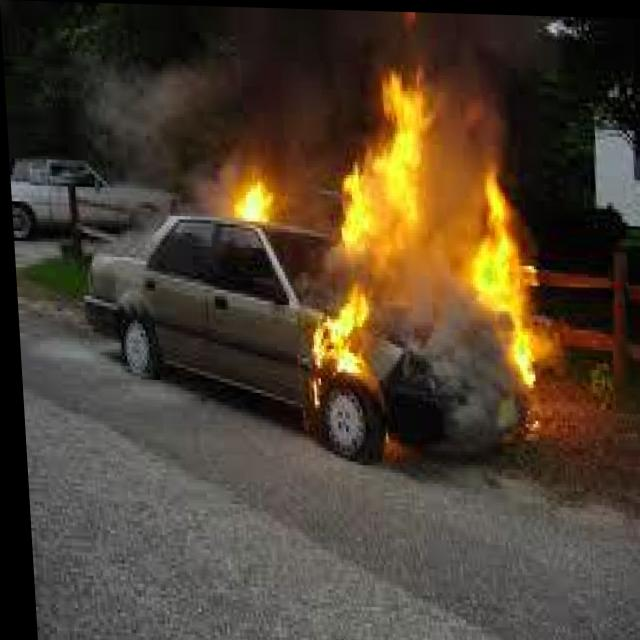fire: (319, 57, 561, 379), (208, 166, 272, 227)
